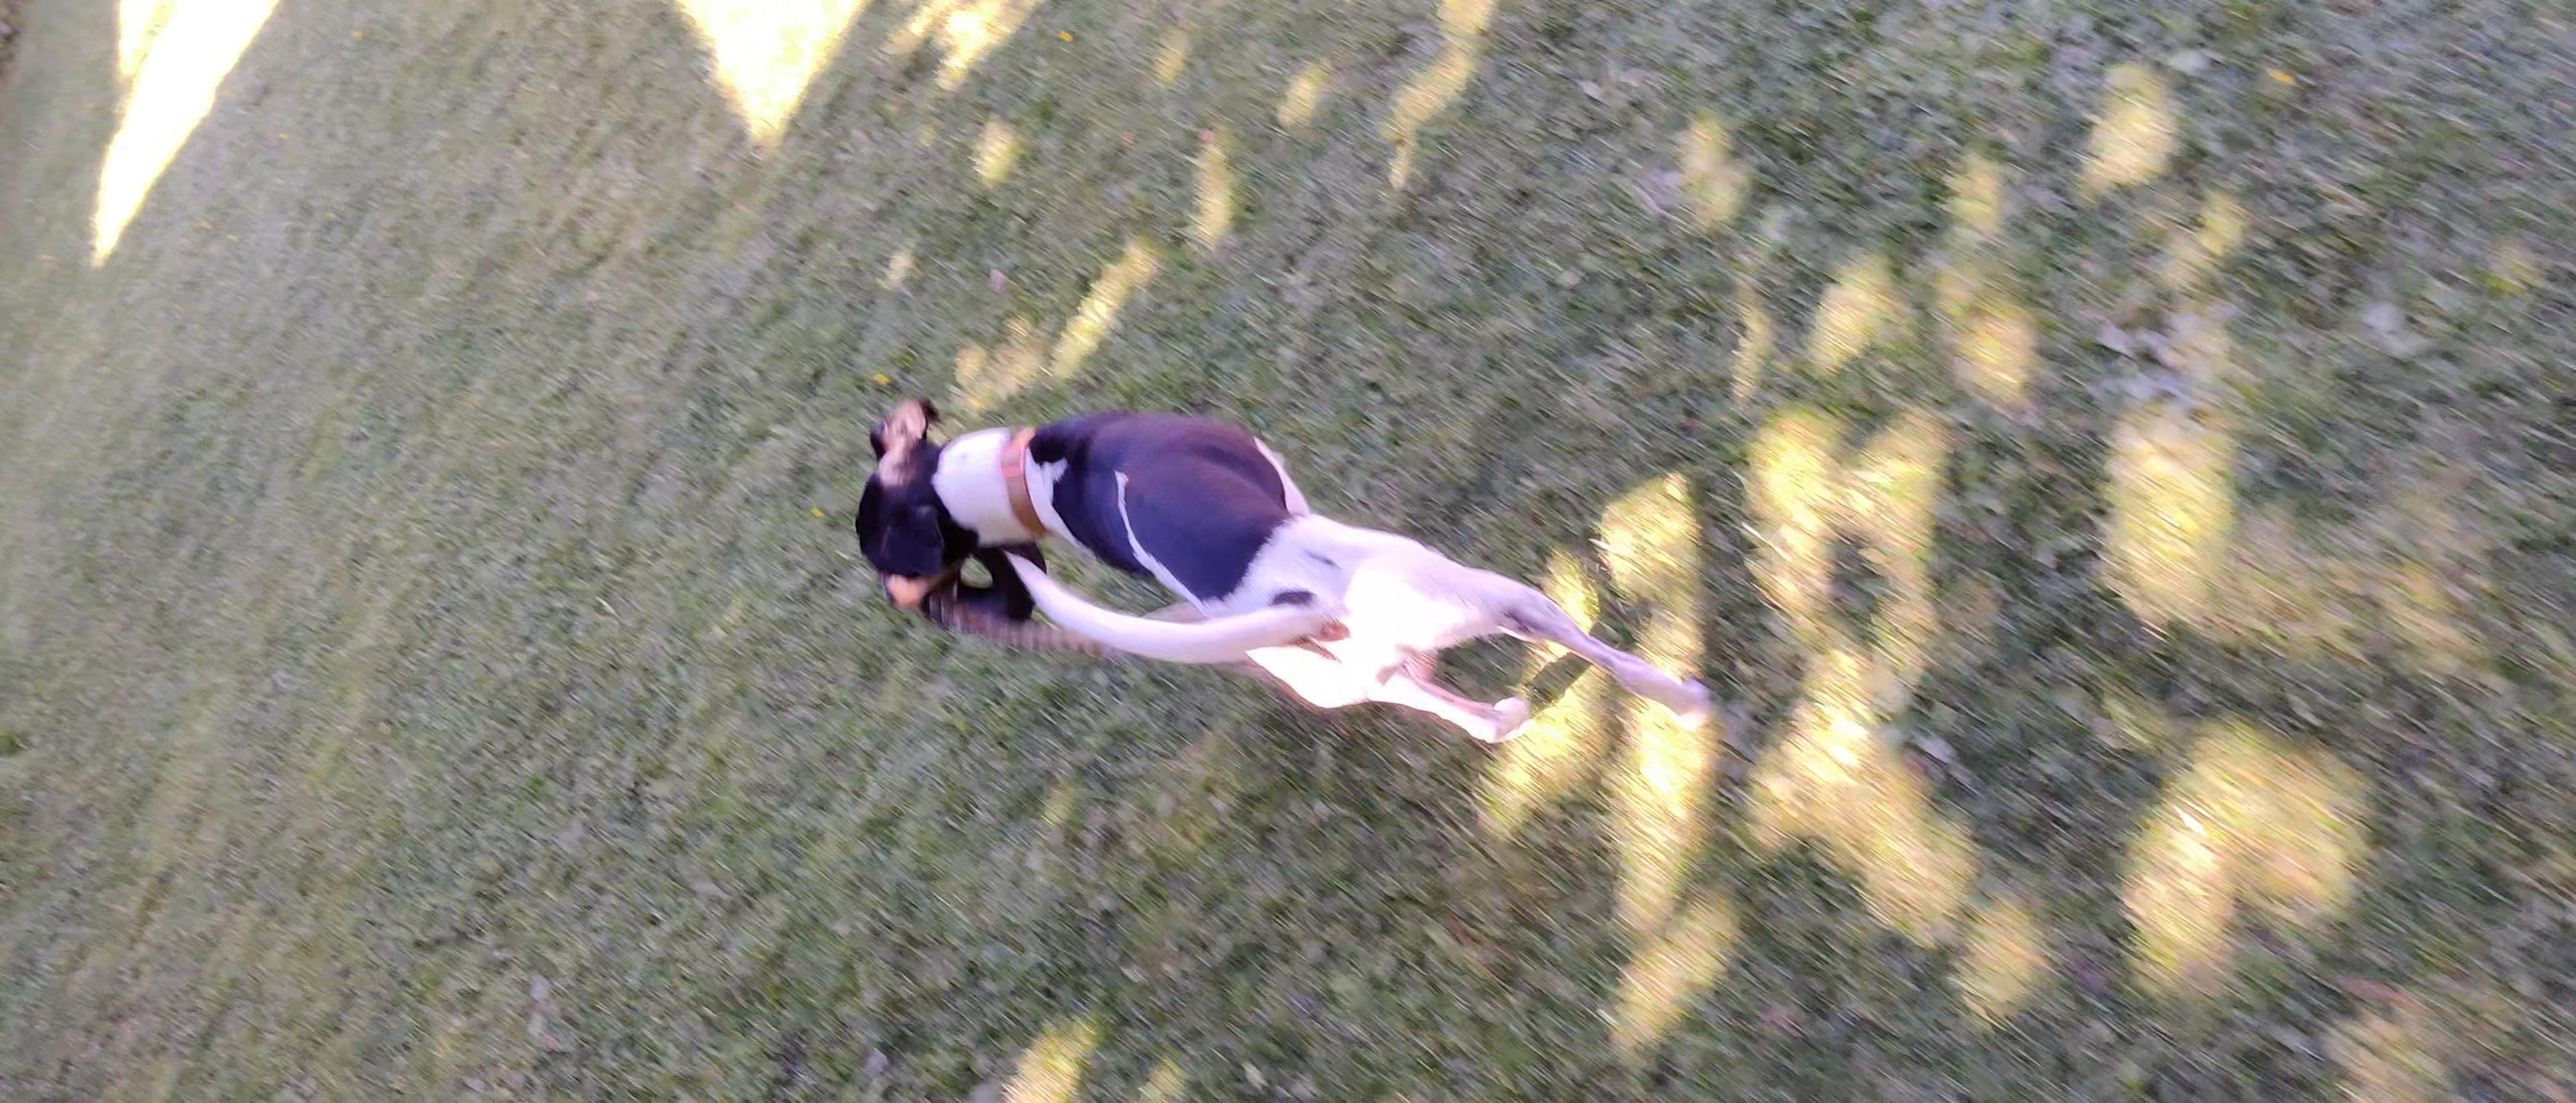Dog: (838, 380, 1727, 748)
